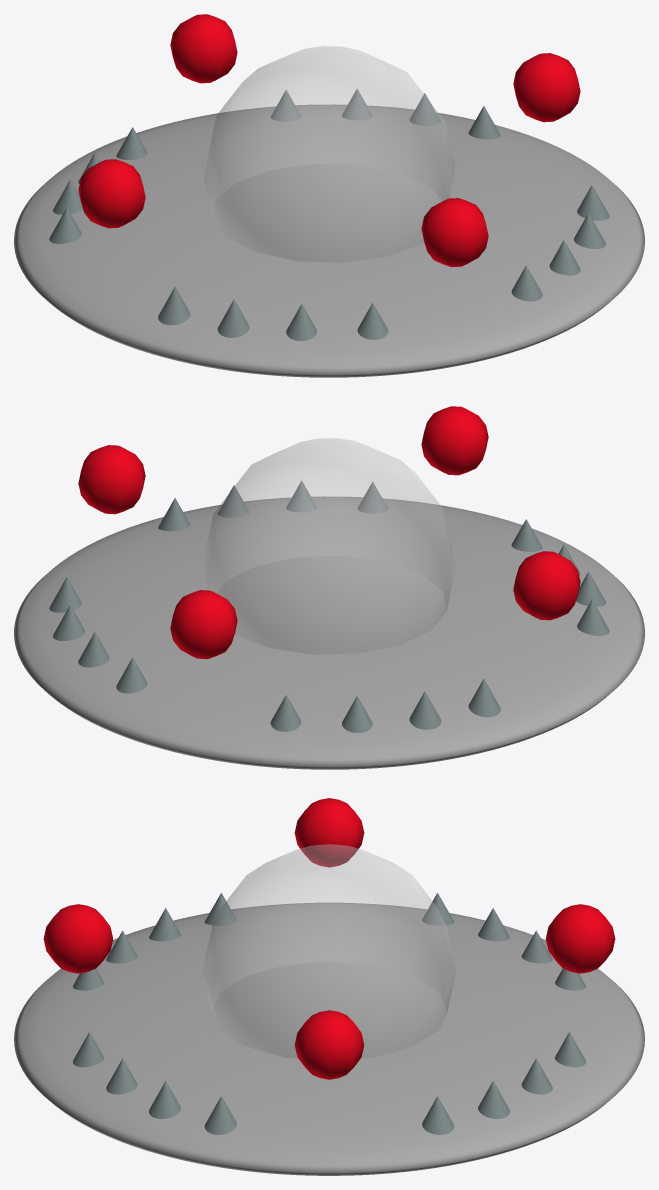
The model's file is enemy1.glb.
3 views of the same model, one above another, from view 1: azimuth 30°, elevation 25°; view 2: azimuth 150°, elevation 25°; view 3: azimuth 270°, elevation 25° (orthographic).
Visible parts, largest first — view 1: Sphere, Sphere.001, Sphere.005, Sphere.004, Sphere.002, Sphere.003, Cone.011, Cone.013, Cone.014, Cone.015, Cone.008, Cone.007 (+9 smaller); view 2: Sphere, Sphere.001, Sphere.002, Sphere.004, Sphere.005, Sphere.003, Cone.008, Cone.017, Cone.005, Cone.003, Cone.011, Cone.004 (+9 smaller); view 3: Sphere, Sphere.001, Sphere.004, Sphere.002, Sphere.005, Sphere.003, Cone.012, Cone.006, Cone.004, Cone.007, Cone.002, Cone.009 (+8 smaller).
Part boxes in pixels (box(x1,y1,x2,y2)): Sphere: box(14, 104, 644, 377); Sphere.001: box(204, 46, 454, 262); Sphere.005: box(170, 14, 237, 83); Sphere.004: box(78, 159, 145, 228); Sphere.002: box(421, 198, 488, 267); Sphere.003: box(513, 53, 580, 122); Cone.011: box(158, 286, 190, 325); Cone.013: box(217, 299, 249, 337); Cone.014: box(286, 304, 316, 340); Cone.015: box(357, 303, 388, 339); Cone.008: box(49, 208, 81, 243); Cone.007: box(574, 213, 605, 248); Sphere: box(14, 496, 644, 769); Sphere.001: box(204, 438, 454, 654); Sphere.002: box(421, 406, 488, 475); Sphere.004: box(513, 551, 580, 620); Sphere.005: box(170, 590, 237, 659); Sphere.003: box(78, 445, 145, 514); Cone.008: box(468, 678, 500, 717); Cone.017: box(409, 691, 441, 729); Cone.005: box(342, 696, 372, 732); Cone.003: box(270, 695, 301, 731); Cone.011: box(577, 600, 609, 635); Cone.004: box(53, 605, 84, 640); Sphere: box(14, 902, 644, 1175); Sphere.001: box(203, 844, 455, 1058); Sphere.004: box(294, 798, 364, 867); Sphere.002: box(43, 904, 112, 973); Sphere.005: box(546, 904, 615, 973); Sphere.003: box(294, 1010, 364, 1079); Cone.012: box(422, 1096, 454, 1134); Cone.006: box(204, 1096, 236, 1134); Cone.004: box(478, 1081, 509, 1118); Cone.007: box(149, 1081, 180, 1118); Cone.002: box(521, 1058, 552, 1094); Cone.009: box(106, 1058, 137, 1094).
Bounding box in the file's own units: 8.55 × 3.44 × 8.55.
